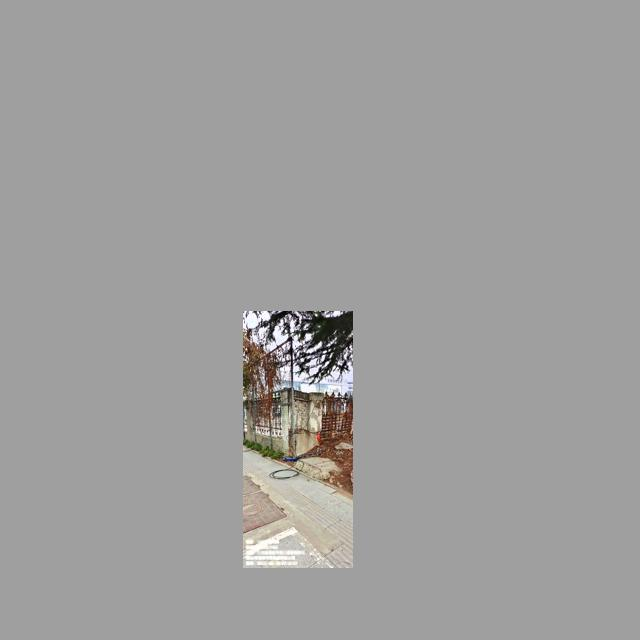good: (245, 526, 335, 568)
